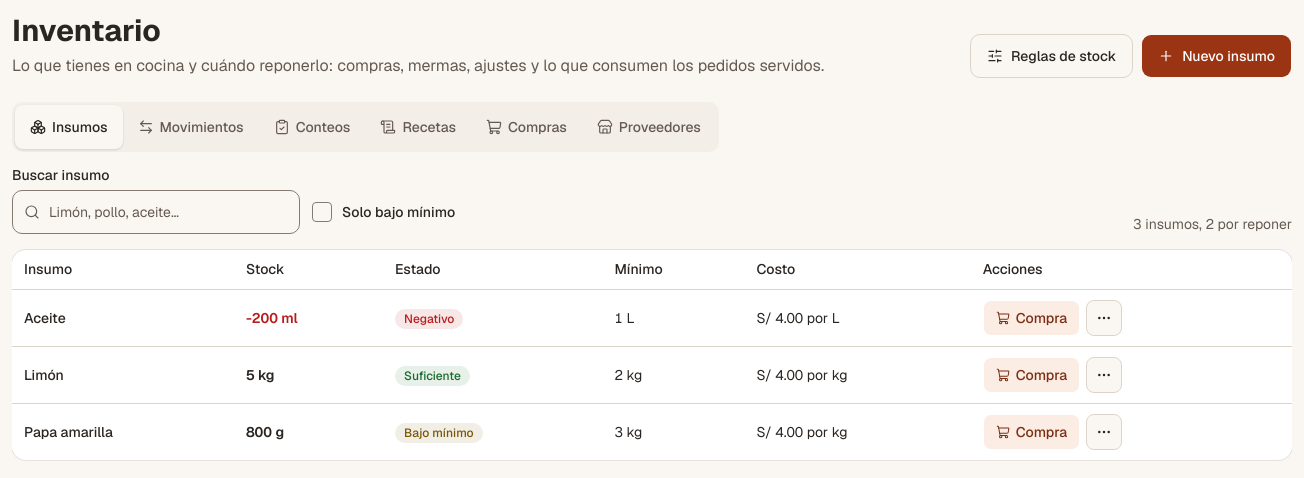
InventoryView: tabla de insumos › busca sin importar tildes ni mayúsculas y filtra lo que está bajo el mínimo
The width and height of the screenshot is (1304, 478).
In the search field labelled "Buscar insumo": (156, 212) left=12, top=190, right=300, bottom=234, type "LIMON"
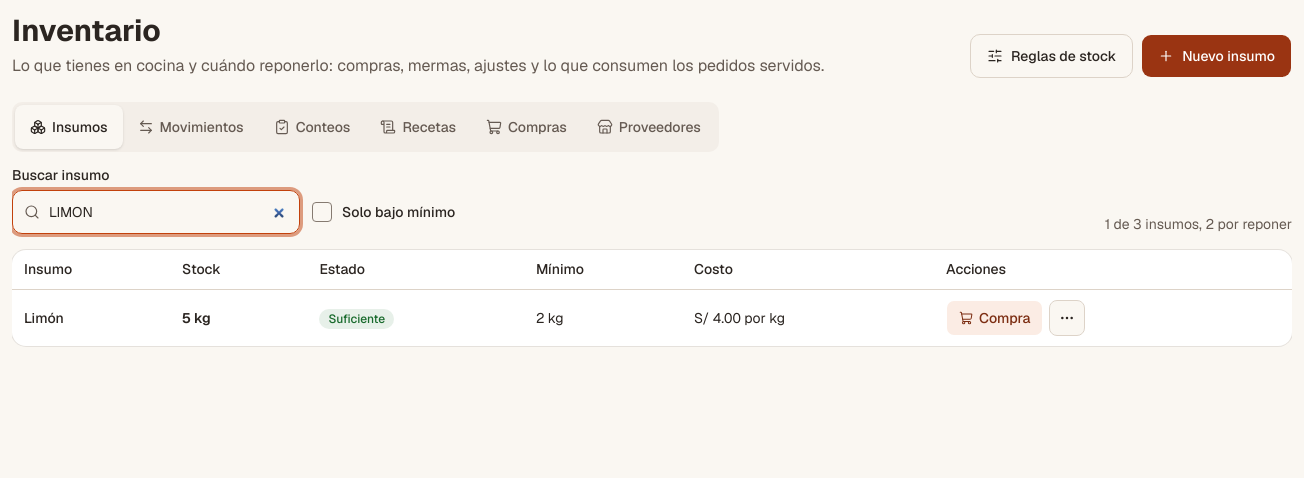
Expected: the text "1 de 3 insumos" is shown, left=1105, top=214, right=1199, bottom=232
Expected: the text "Aceite" is gone
Clear the search field labelled "Buscar insumo": (156, 212) left=12, top=190, right=300, bottom=234
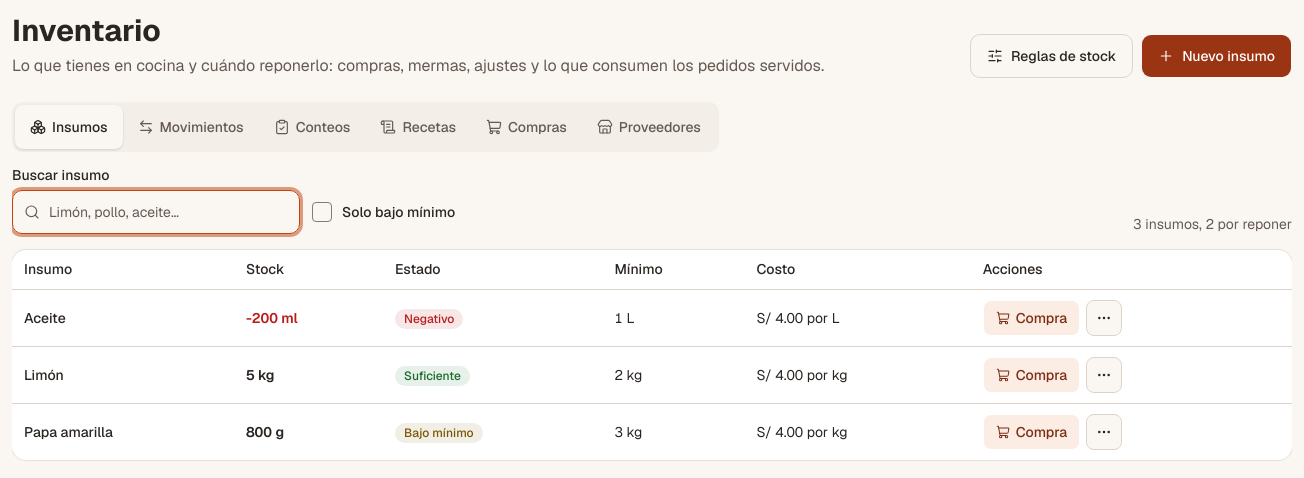
Click the checkbox named "Solo bajo mínimo": (322, 212) left=312, top=202, right=332, bottom=222
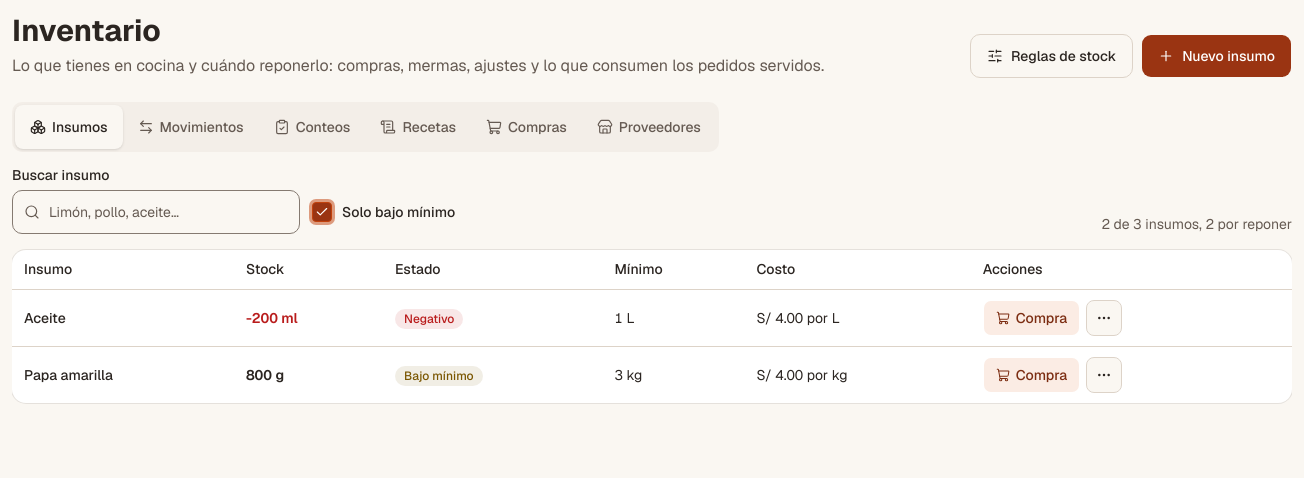
Expected: the text "2 de 3 insumos" is shown, left=1101, top=214, right=1199, bottom=232
In the search field labelled "Buscar insumo": (156, 212) left=12, top=190, right=300, bottom=234, type "zzz"
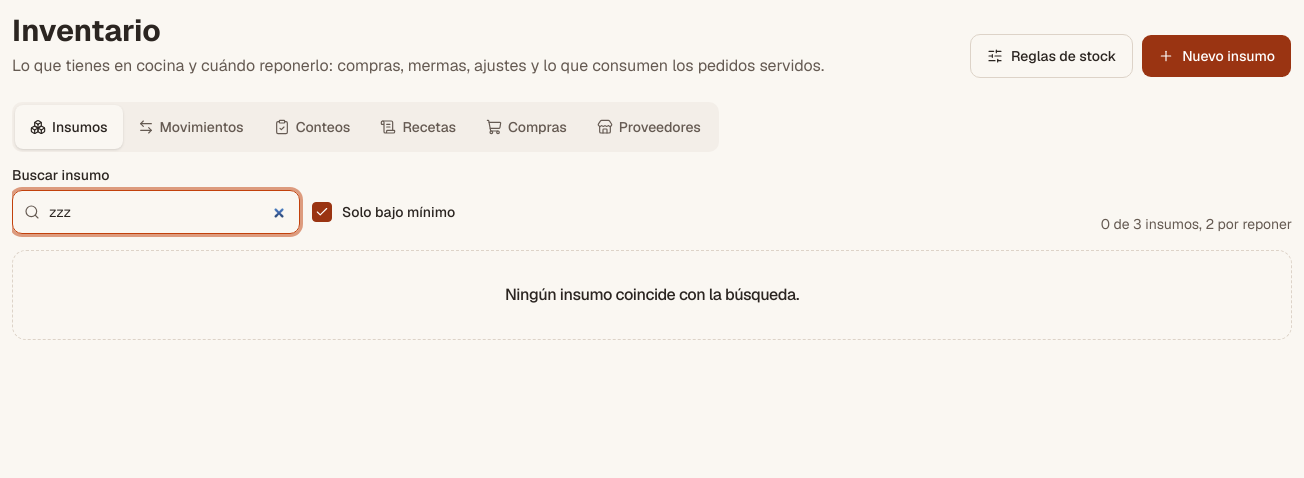
Expected: the text "Ningún insumo coincide con la búsqueda." is shown, left=505, top=282, right=799, bottom=306
